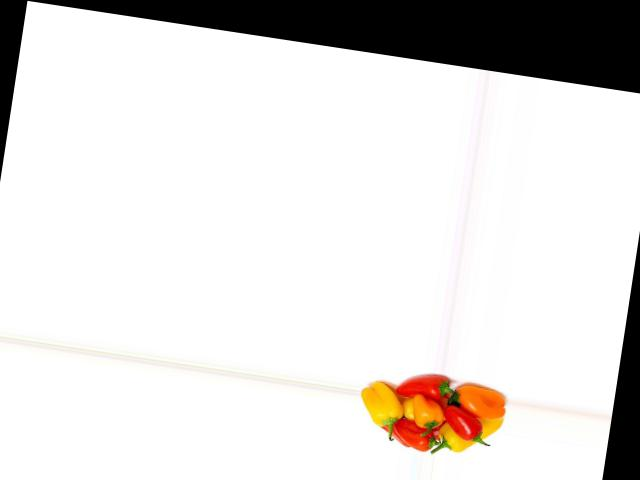bell_pepper: (436, 409, 502, 461)
